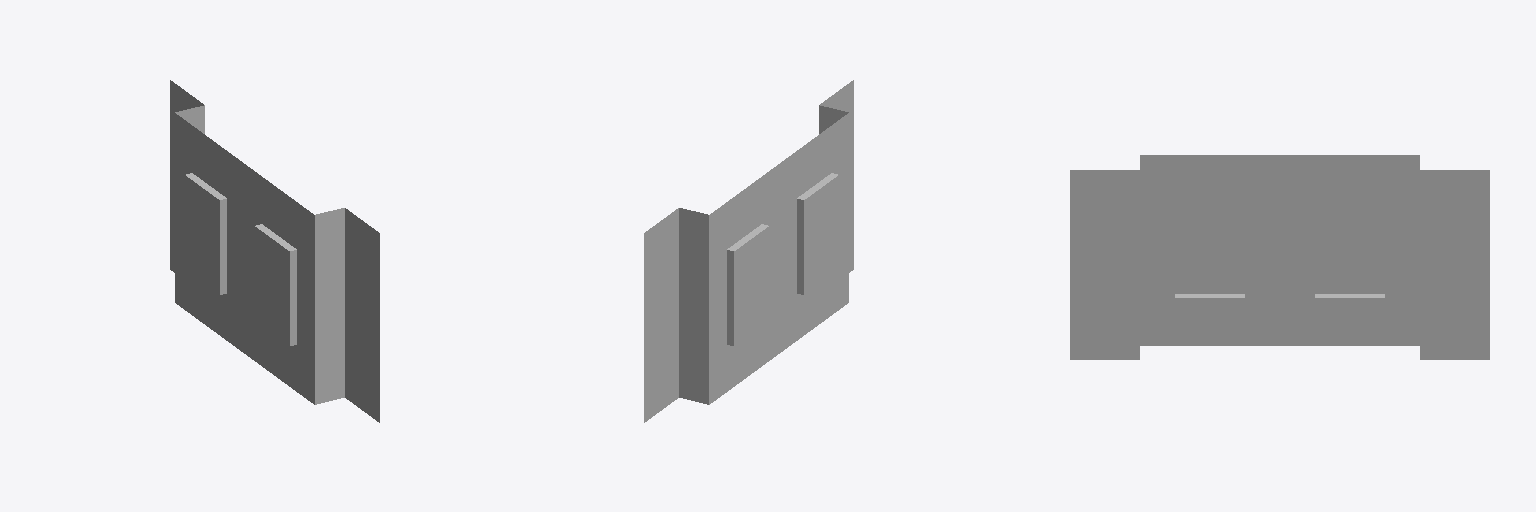
Rendered from Building_Wall_05_Type1.obj.
3 views of the same model, side by side, from view 1: azimuth 30°, elevation 25°; view 2: azimuth 150°, elevation 25°; view 3: azimuth 270°, elevation 25° (orthographic).
Parts seen in each view (by area): view 1: Building_Wall_05_Type1_Cube.047; view 2: Building_Wall_05_Type1_Cube.047; view 3: Building_Wall_05_Type1_Cube.047.
Part boxes in pixels (left/top/right/bottom): Building_Wall_05_Type1_Cube.047: left=170, top=80, right=379, bottom=422; Building_Wall_05_Type1_Cube.047: left=644, top=80, right=853, bottom=422; Building_Wall_05_Type1_Cube.047: left=1070, top=155, right=1489, bottom=359.
Bounding box in the file's own units: 0.625 × 3 × 6.